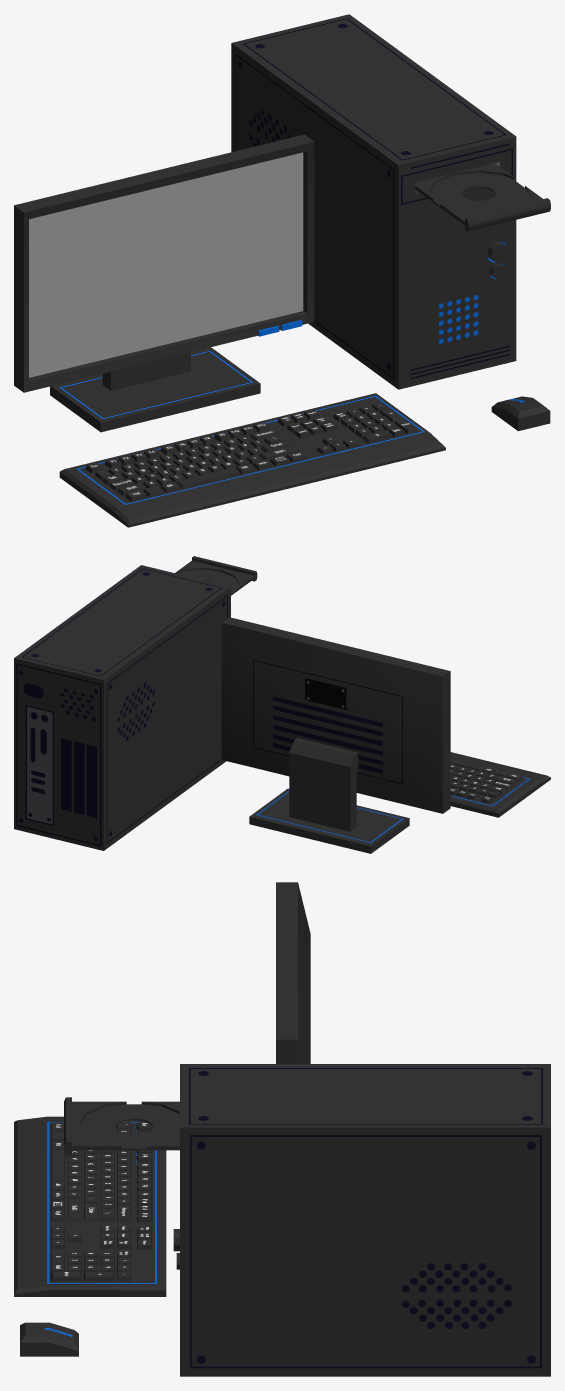
File: cubo17.gltf
The picture shows the model from 3 angles, top to bottom: view 1: azimuth 30°, elevation 25°; view 2: azimuth 150°, elevation 25°; view 3: azimuth 270°, elevation 25°; orthographic projection. The views are drawn at different scales.
Visible parts, largest first — view 1: Drive; view 2: Drive; view 3: Drive.
Part boxes in pixels (left/top/right/bottom): Drive: left=14, top=14, right=550, bottom=527; Drive: left=14, top=556, right=550, bottom=853; Drive: left=14, top=882, right=550, bottom=1376.
Size of the model in its own units: 0.4631 by 0.2173 by 0.4192.
Materials: 2 (1 with a texture image).
